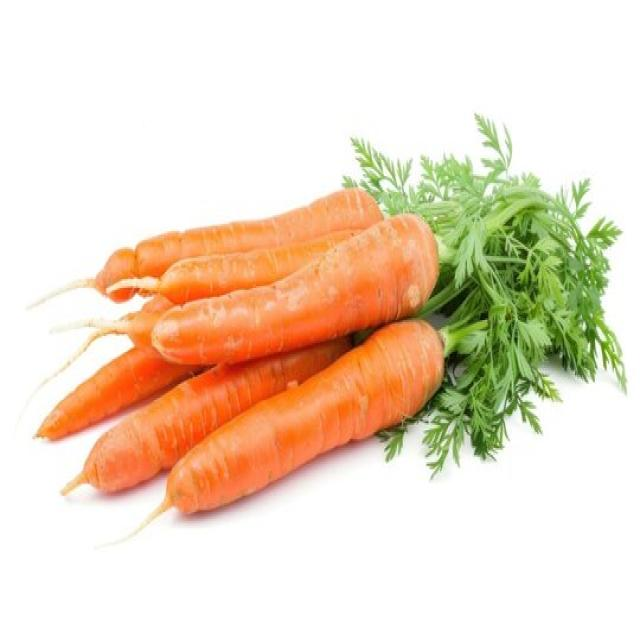Carrot: (95, 313, 485, 547), (58, 332, 352, 498), (150, 210, 438, 366), (103, 220, 365, 306), (22, 293, 178, 409), (31, 343, 202, 443), (25, 246, 136, 310)
